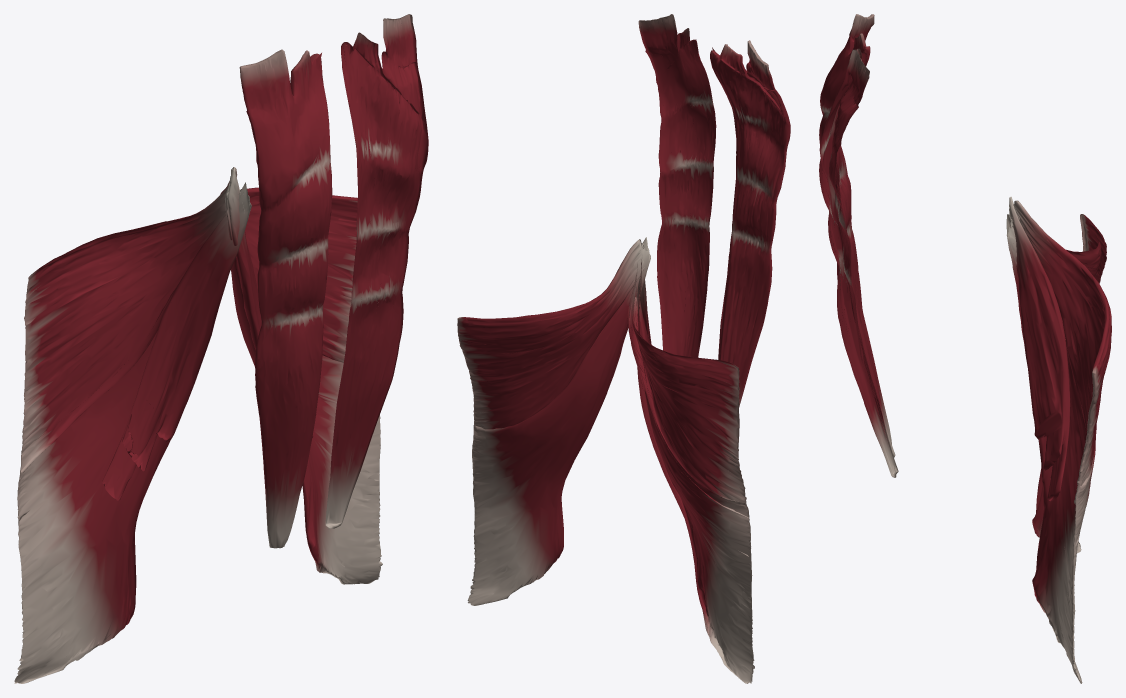
File: roma-adapted-zanatomy-mobile-meshopt.glb
The picture shows the model from 3 angles, left to right: view 1: azimuth 30°, elevation 25°; view 2: azimuth 150°, elevation 25°; view 3: azimuth 270°, elevation 25°; orthographic projection. The views are drawn at different scales.
Parts seen in each view (by area): view 1: left_latissimus_dorsi, right_rectus_abdominis, left_rectus_abdominis, right_latissimus_dorsi; view 2: right_latissimus_dorsi, left_latissimus_dorsi, left_rectus_abdominis, right_rectus_abdominis; view 3: right_latissimus_dorsi, left_rectus_abdominis, right_rectus_abdominis, left_latissimus_dorsi.
Part boxes in pixels (box(x1,y1,x2,y2)): left_latissimus_dorsi: box(14, 182, 251, 683); right_rectus_abdominis: box(239, 49, 332, 548); left_rectus_abdominis: box(325, 14, 428, 529); right_latissimus_dorsi: box(220, 167, 382, 584); right_latissimus_dorsi: box(457, 237, 650, 605); left_latissimus_dorsi: box(627, 259, 754, 683); left_rectus_abdominis: box(638, 14, 716, 357); right_rectus_abdominis: box(710, 40, 790, 407); right_latissimus_dorsi: box(1009, 196, 1111, 683); left_rectus_abdominis: box(819, 48, 898, 477); right_rectus_abdominis: box(819, 14, 895, 457); left_latissimus_dorsi: box(1006, 214, 1106, 553).
Bounding box in the file's own units: 0.2001 × 0.365 × 0.1625.
